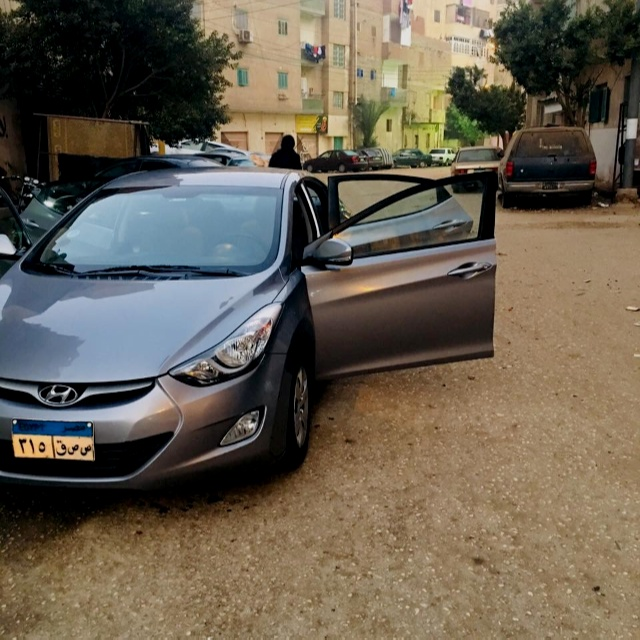License Plate: (9, 415, 96, 464)
